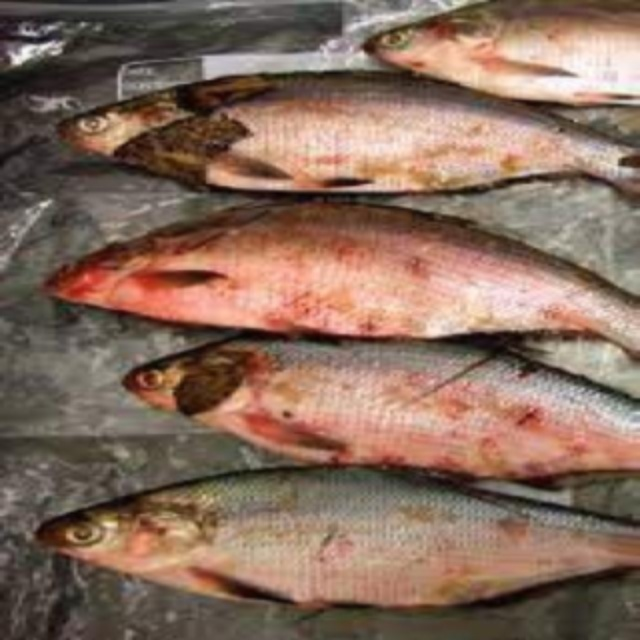EUS Disease: (52, 198, 622, 344), (41, 485, 545, 612), (125, 347, 624, 474), (68, 96, 572, 208), (366, 13, 640, 91)
